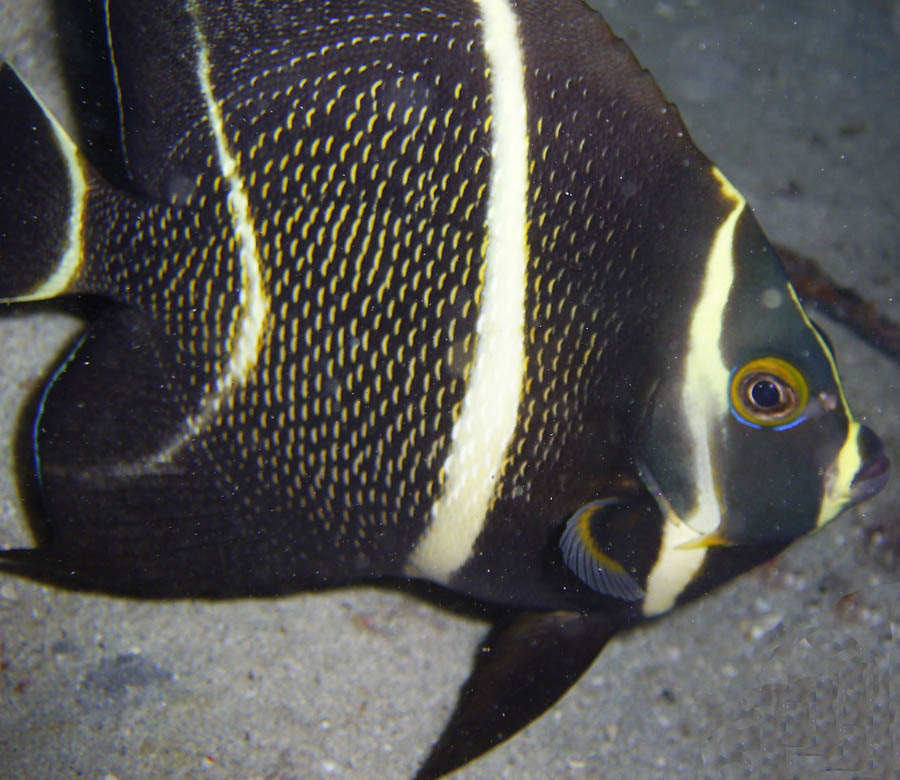Pomacanthus_paru: (4, 1, 885, 768)
